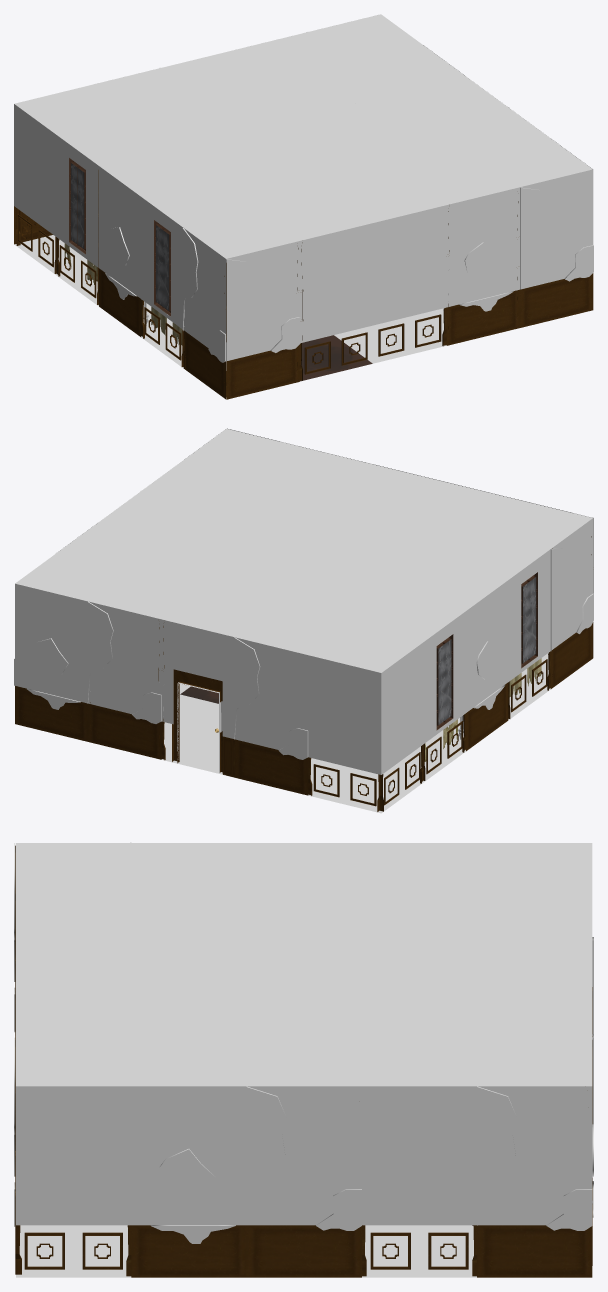
The model's file is kitchen_asset.fbx.
3 views of the same model, one above another, from view 1: azimuth 30°, elevation 25°; view 2: azimuth 150°, elevation 25°; view 3: azimuth 270°, elevation 25° (orthographic). The views are drawn at different scales.
Visible parts, largest first — view 1: Plane.280, Plane.291, Plane.055, Plane.308, Plane.292, Plane.284, Plane.283, шторы1.001, Plane.286, Plane.316, Plane.249, Plane.302 (+31 smaller); view 2: Plane.287, Plane.307, Plane.288, Plane.279, Plane.284, Plane.283, Plane.277, шторы1.001, Plane.286, Plane.316, Plane.249, Plane.248 (+32 smaller); view 3: Plane.311, Plane.312, Plane.309, Plane.313, Plane.310, Plane.269, Plane.266, Plane.301, Plane.267, Plane.271, Plane.302, Plane.304 (+23 smaller).
Boxes of the visible parts, left/top/right/bottom form: Plane.280: left=226, top=241, right=300, bottom=399; Plane.291: left=446, top=187, right=519, bottom=345; Plane.055: left=520, top=169, right=593, bottom=327; Plane.308: left=299, top=223, right=373, bottom=374; Plane.292: left=373, top=205, right=446, bottom=356; Plane.284: left=99, top=166, right=141, bottom=336; Plane.283: left=182, top=228, right=225, bottom=399; шторы1.001: left=141, top=197, right=182, bottom=360; Plane.286: left=14, top=104, right=56, bottom=267; Plane.316: left=56, top=135, right=98, bottom=298; Plane.249: left=184, top=210, right=299, bottom=262; Plane.302: left=257, top=192, right=372, bottom=240; Plane.287: left=87, top=601, right=161, bottom=759; Plane.307: left=234, top=637, right=308, bottom=795; Plane.288: left=15, top=583, right=88, bottom=741; Plane.279: left=308, top=655, right=381, bottom=806; Plane.284: left=466, top=580, right=508, bottom=751; Plane.283: left=550, top=522, right=593, bottom=688; Plane.277: left=161, top=619, right=234, bottom=777; шторы1.001: left=508, top=549, right=550, bottom=712; Plane.286: left=381, top=642, right=423, bottom=805; Plane.316: left=423, top=611, right=465, bottom=774; Plane.249: left=477, top=500, right=592, bottom=548; Plane.248: left=435, top=531, right=550, bottom=579; Plane.311: left=246, top=1086, right=361, bottom=1277; Plane.312: left=131, top=1086, right=246, bottom=1277; Plane.309: left=477, top=1086, right=592, bottom=1277; Plane.313: left=16, top=1086, right=131, bottom=1269; Plane.310: left=362, top=1086, right=476, bottom=1269; Plane.269: left=477, top=1037, right=592, bottom=1091; Plane.266: left=131, top=1037, right=246, bottom=1086; Plane.301: left=131, top=891, right=246, bottom=940; Plane.267: left=16, top=1037, right=131, bottom=1086; Plane.271: left=246, top=1037, right=361, bottom=1086; Plane.302: left=16, top=891, right=131, bottom=940; Plane.304: left=477, top=891, right=592, bottom=940.
Size of the model in its own units: 1005 by 366 by 1006.
